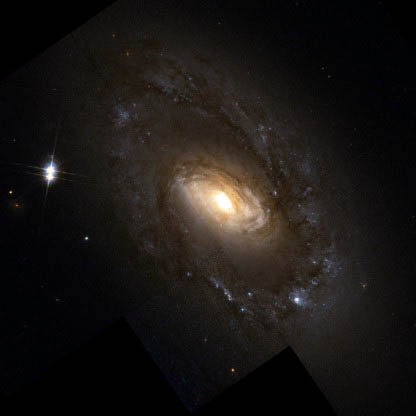NGC 4102: (31, 30, 382, 356)
